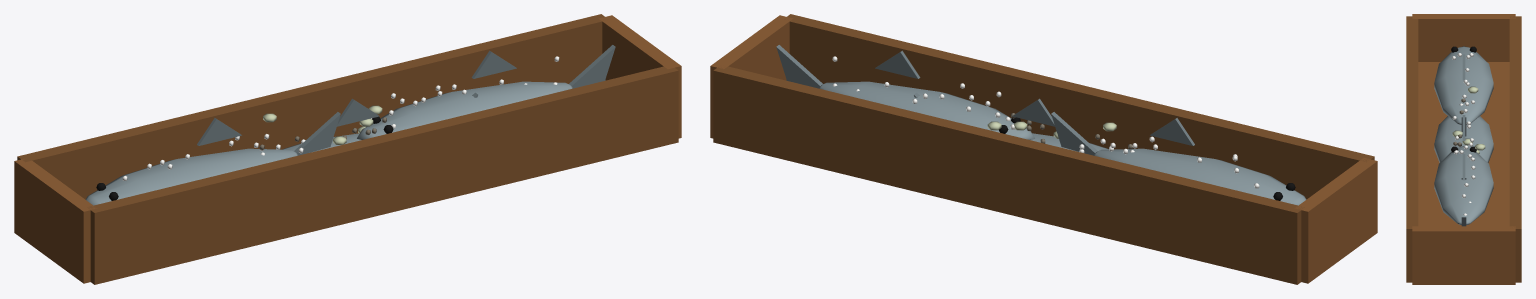
The model's file is Proc_SaltedFish.fbx.
3 views of the same model, side by side, from view 1: azimuth 30°, elevation 25°; view 2: azimuth 150°, elevation 25°; view 3: azimuth 270°, elevation 25° (orthographic). The views are drawn at different scales.
Visible parts, largest first — view 1: Proc_SaltedFish__Stack, Proc_SaltedFish, Proc_SaltedFish__Rotten; view 2: Proc_SaltedFish__Stack, Proc_SaltedFish, Proc_SaltedFish__Rotten; view 3: Proc_SaltedFish__Stack, Proc_SaltedFish, Proc_SaltedFish__Rotten.
Part boxes in pixels (x1,y1,x2,y2): Proc_SaltedFish__Stack: [14, 14, 681, 284]; Proc_SaltedFish: [254, 92, 477, 153]; Proc_SaltedFish__Rotten: [259, 105, 386, 149]; Proc_SaltedFish__Stack: [710, 14, 1377, 284]; Proc_SaltedFish: [914, 92, 1137, 154]; Proc_SaltedFish__Rotten: [987, 113, 1132, 149]; Proc_SaltedFish__Stack: [1406, 14, 1521, 284]; Proc_SaltedFish: [1434, 94, 1493, 179]; Proc_SaltedFish__Rotten: [1452, 86, 1485, 153].
Size of the model in its own units: 0.348 by 0.0553 by 0.0779.
